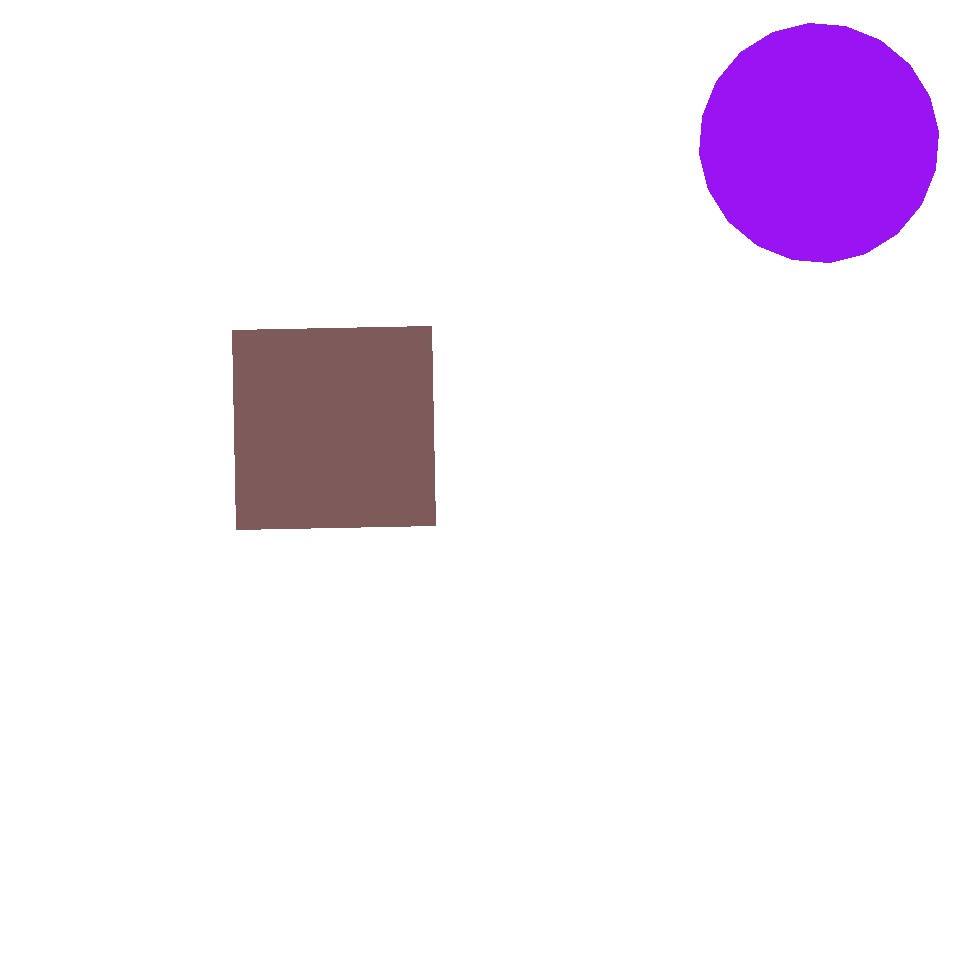circle: (525, 121, 753, 349), (387, 314, 591, 536)
square: (65, 572, 346, 852), (232, 327, 436, 530)
triangle: (700, 23, 938, 262), (189, 260, 312, 383), (30, 168, 150, 286)
